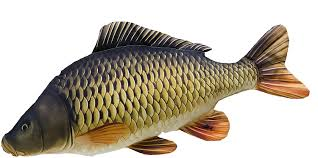carp: (1, 21, 312, 156)
